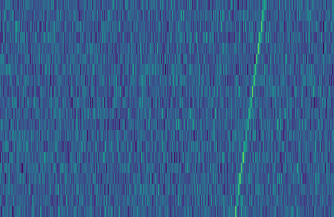signal: (232, 0, 272, 217)
